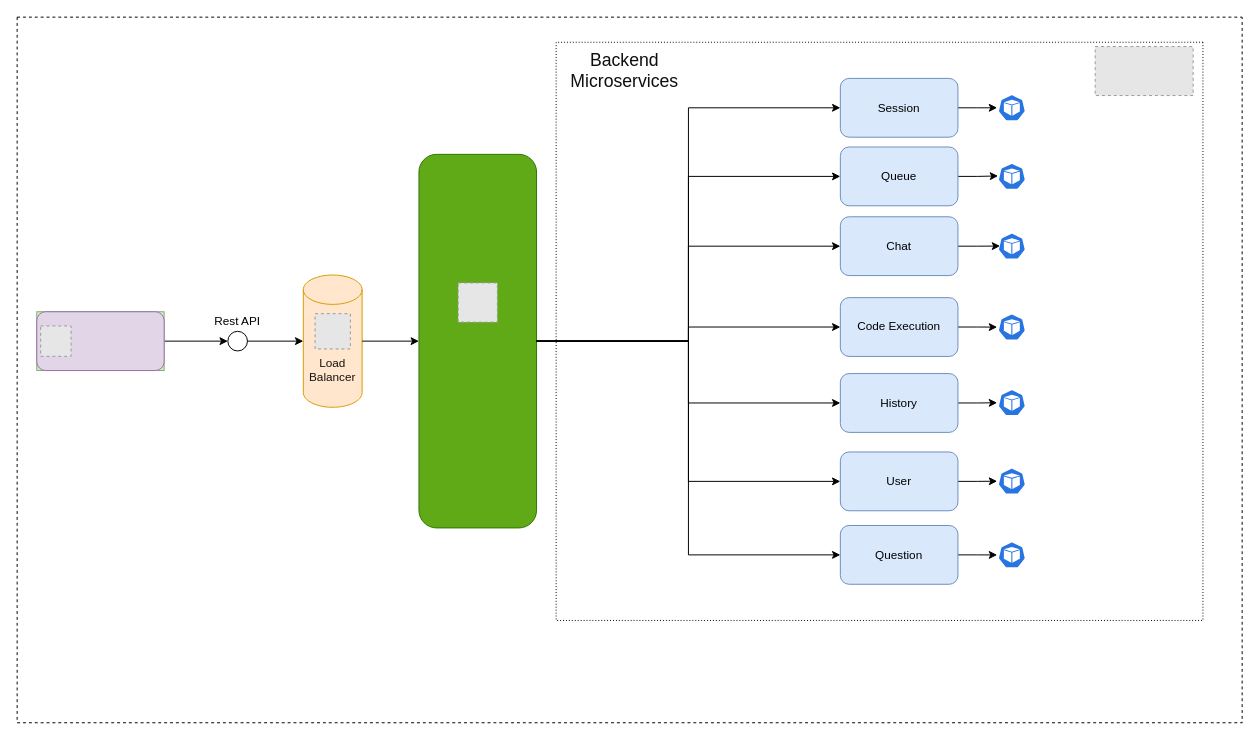
Some shapes in this 1259 by 740 pixel diagram are drawn without their labels. Grey dashed boxes stand in for pictures. The shapes that lost their labels are listed below. From the top down, each one's box as (x1, y1, x2, y2) in pixels, then its label:
(36, 311, 164, 371): Frontend
(418, 153, 537, 528): Gateway API
